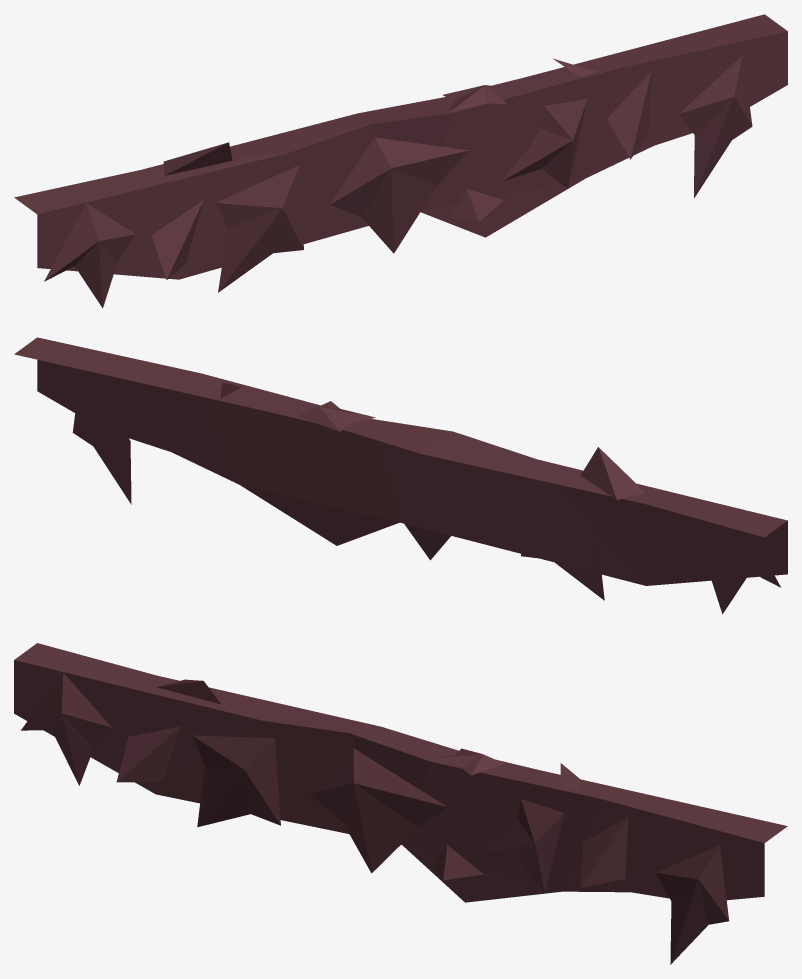
Rendered from empire-ivy-small-empire.glb.
The picture shows the model from 3 angles, top to bottom: view 1: azimuth 30°, elevation 25°; view 2: azimuth 150°, elevation 25°; view 3: azimuth 330°, elevation 25°; orthographic projection.
Visible parts, largest first — view 1: SM_Ivy_Small_Empire; view 2: SM_Ivy_Small_Empire; view 3: SM_Ivy_Small_Empire.
Part boxes in pixels (x1,y1,x2,y2): SM_Ivy_Small_Empire: (14, 14, 787, 308); SM_Ivy_Small_Empire: (14, 337, 787, 614); SM_Ivy_Small_Empire: (14, 643, 787, 964).
Bounding box in the file's own units: 3 × 0.6537 × 0.2557.
